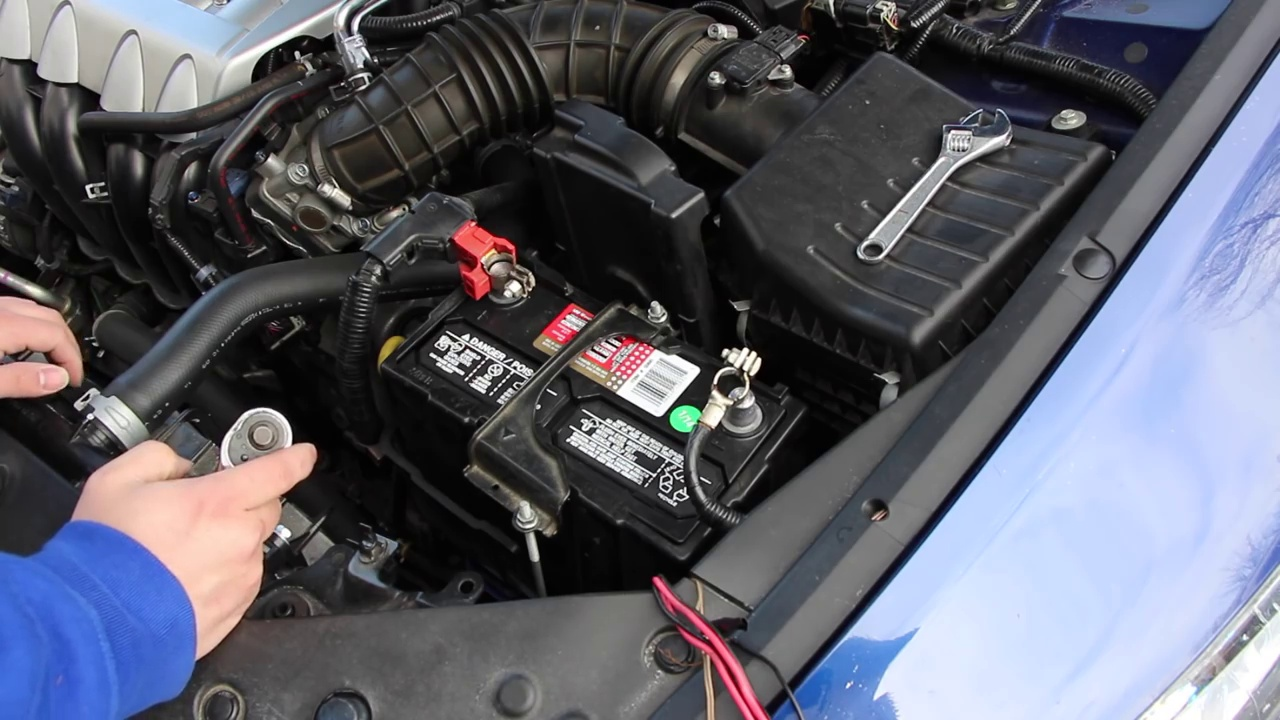battery: (379, 241, 797, 573)
neg_disconnected: (683, 328, 764, 471)
pos_connected: (427, 198, 546, 318)
